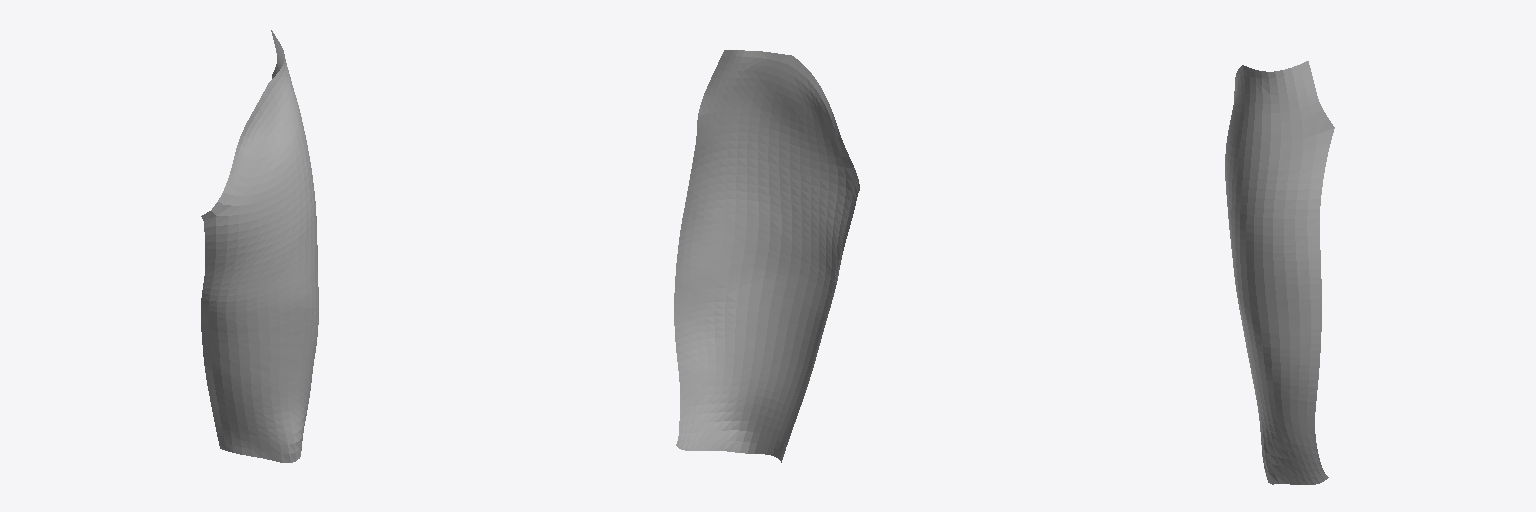
The model's file is left_quad.obj.
3 renders of one model, left to right at view 1: azimuth 30°, elevation 25°; view 2: azimuth 150°, elevation 25°; view 3: azimuth 270°, elevation 25°, orthographic.
Visible parts, largest first — view 1: 000_Male_base_-_piece_4; view 2: 000_Male_base_-_piece_4; view 3: 000_Male_base_-_piece_4.
Part boxes in pixels (x1,y1,x2,y2): 000_Male_base_-_piece_4: (201,30,318,462); 000_Male_base_-_piece_4: (674,50,859,462); 000_Male_base_-_piece_4: (1225,61,1334,484).
Size of the model in its own units: 2.04 by 5.56 by 1.32.